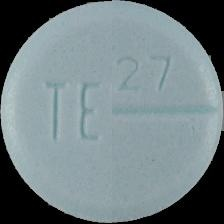21695-265: (0, 0, 224, 224)
